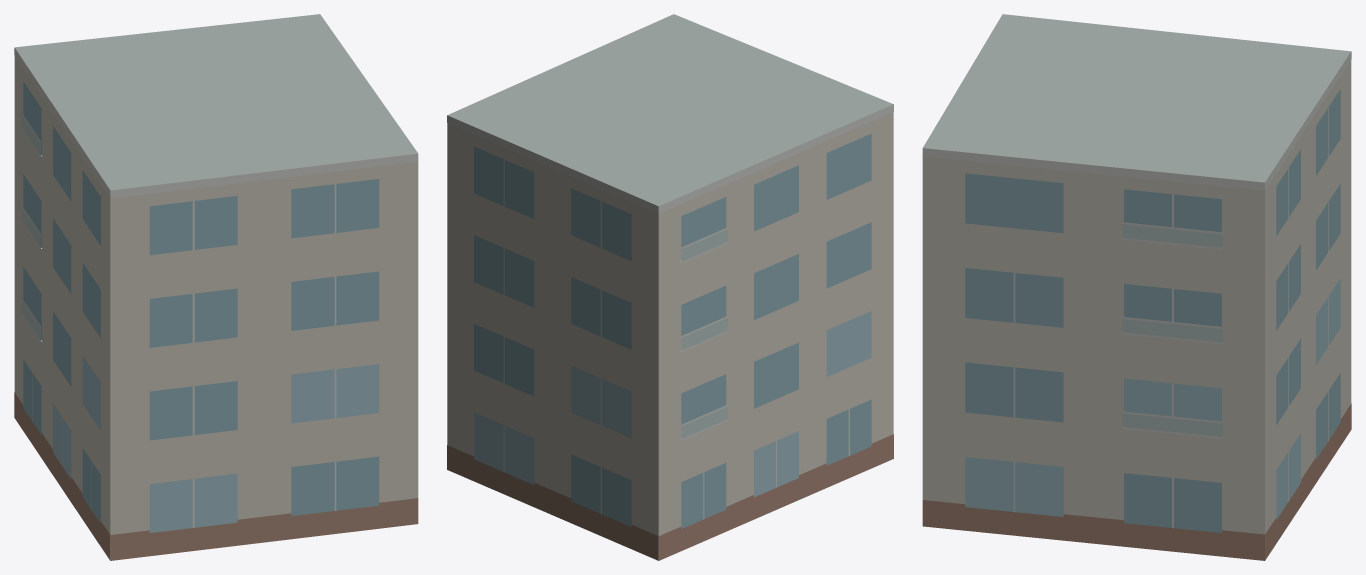
The model's file is survey-upis-32803007.glb.
3 renders of one model, left to right at view 1: azimuth 30°, elevation 25°; view 2: azimuth 150°, elevation 25°; view 3: azimuth 270°, elevation 25°, orthographic. The views are drawn at different scales.
Visible parts, largest first — view 1: survey-upis-32803007.tmp; view 2: survey-upis-32803007.tmp; view 3: survey-upis-32803007.tmp.
Part boxes in pixels (<box>): survey-upis-32803007.tmp: <box>14,14,418,560</box>; survey-upis-32803007.tmp: <box>447,14,893,560</box>; survey-upis-32803007.tmp: <box>922,14,1351,560</box>.
Bounding box in the file's own units: 10.81 × 11.3 × 11.62.
